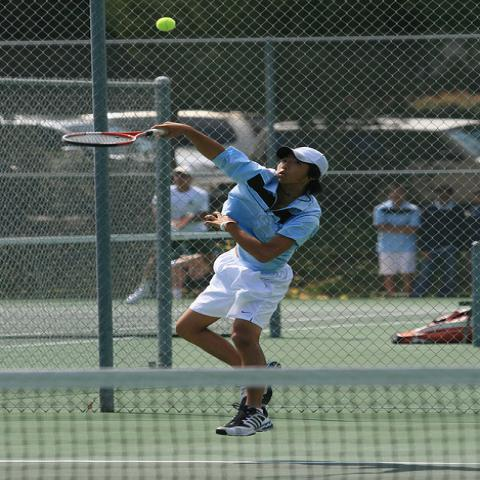car: (247, 116, 479, 244), (44, 113, 256, 177), (2, 115, 83, 219)
